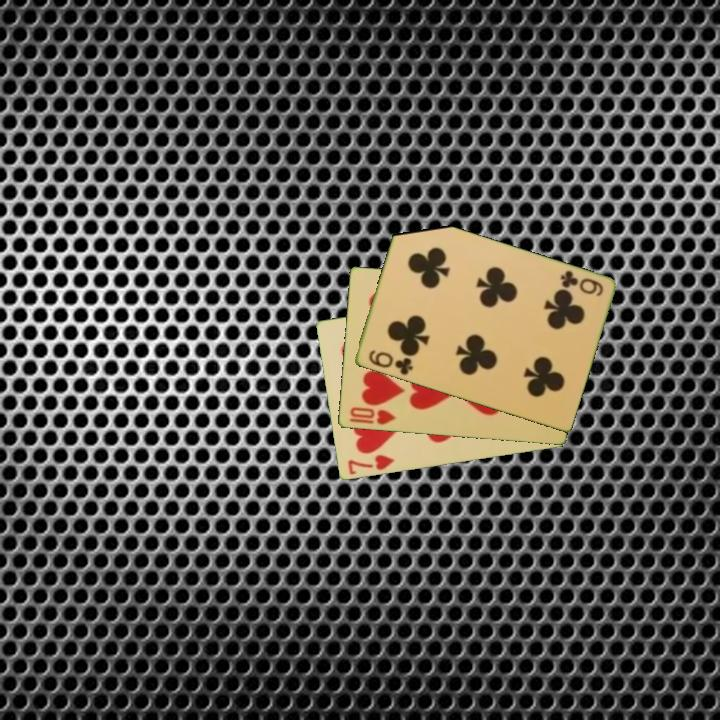10h: (345, 403, 399, 428)
6c: (365, 346, 416, 378), (556, 267, 606, 299)
7h: (344, 451, 397, 478)
